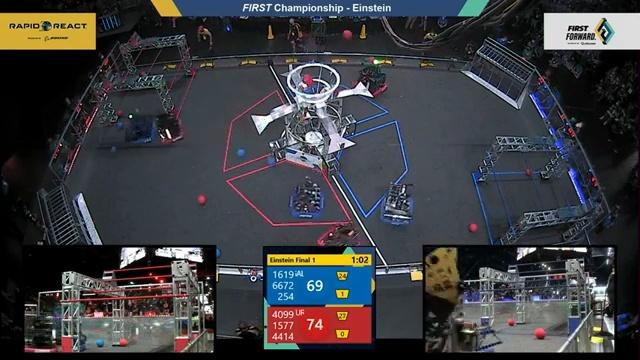robot: (25, 296, 60, 354), (379, 183, 414, 228), (289, 183, 327, 219), (353, 61, 389, 98), (123, 113, 155, 147), (317, 223, 362, 246), (156, 112, 184, 146), (57, 322, 86, 351)
